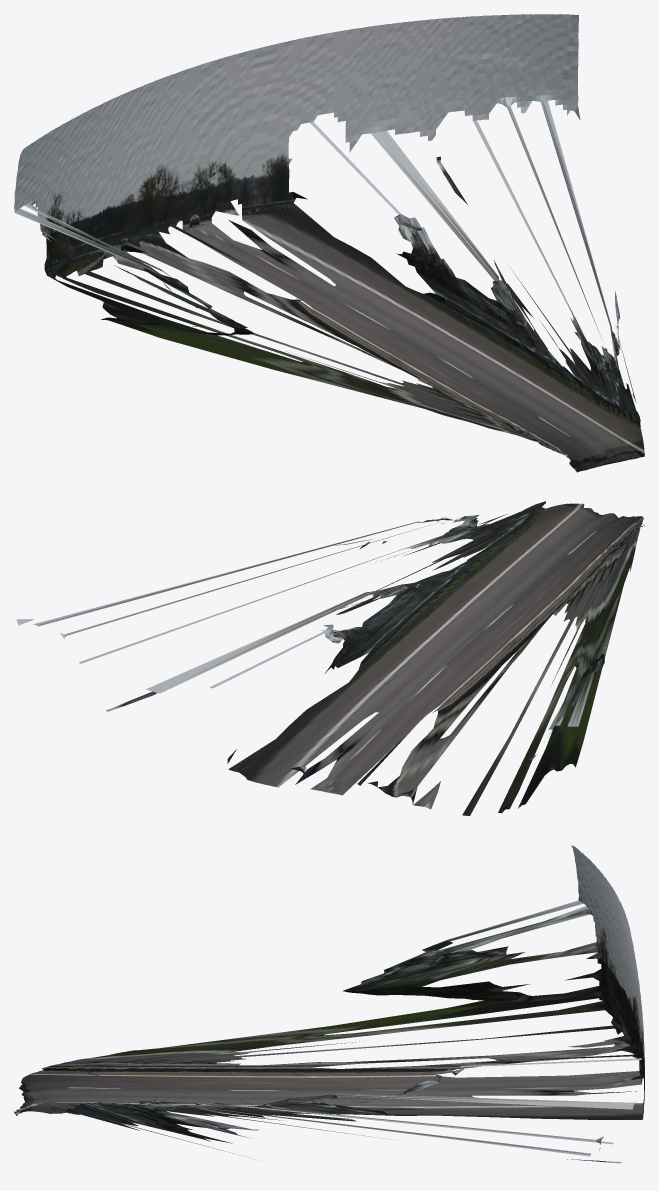
3 renders of one model, top to bottom at view 1: azimuth 30°, elevation 25°; view 2: azimuth 150°, elevation 25°; view 3: azimuth 270°, elevation 25°, orthographic. The views are drawn at different scales.
Parts seen in each view (by area): view 1: defaultobject; view 2: defaultobject; view 3: defaultobject.
Part boxes in pixels (x1=…): defaultobject: x1=14, y1=14, x2=644, y2=472; defaultobject: x1=16, y1=501, x2=644, y2=815; defaultobject: x1=14, y1=845, x2=644, y2=1164.
Size of the model in its own units: 41.02 by 12.09 by 44.62.
1 material, 1 textured.
